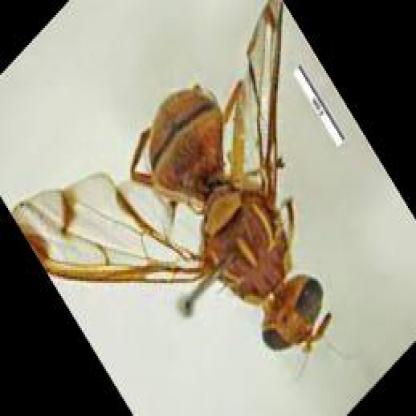fruit fly: (10, 0, 330, 356)
